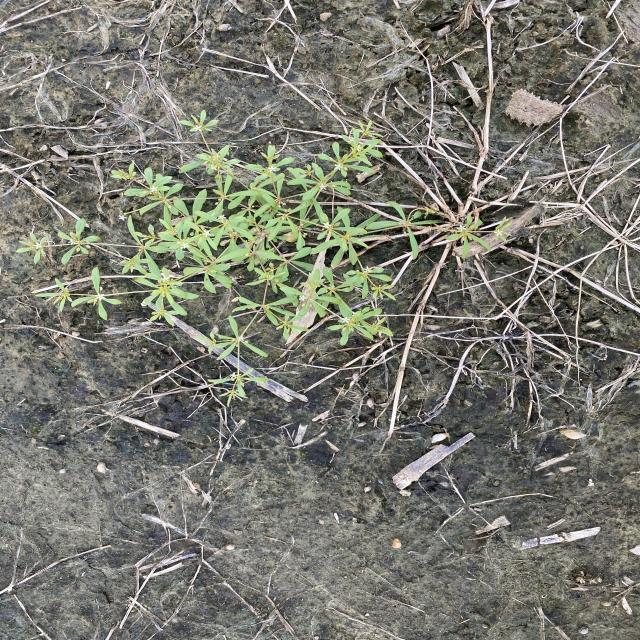Carpetweed: (15, 109, 516, 408)
